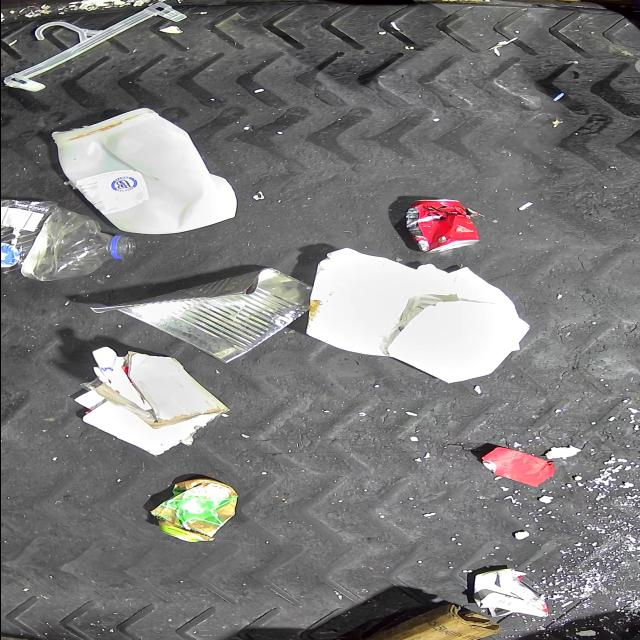can: (403, 198, 480, 254)
milk_jug: (51, 107, 238, 235)
plastic_bottle: (0, 198, 139, 283)
